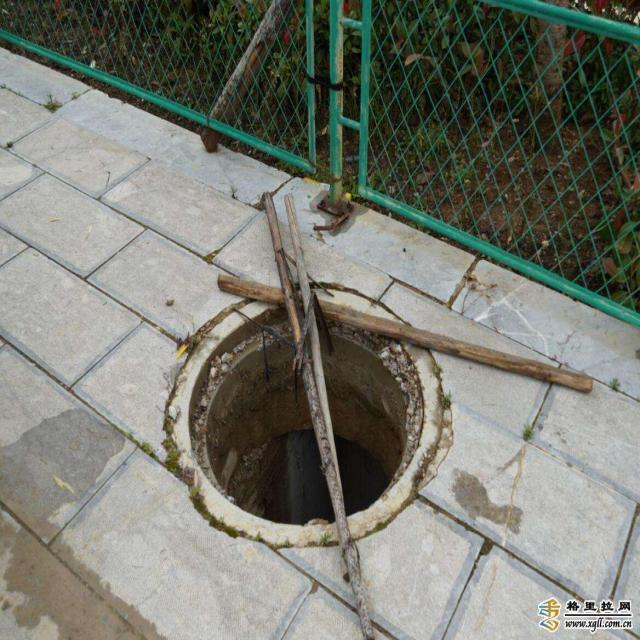manhole-cover: (191, 313, 433, 542)
